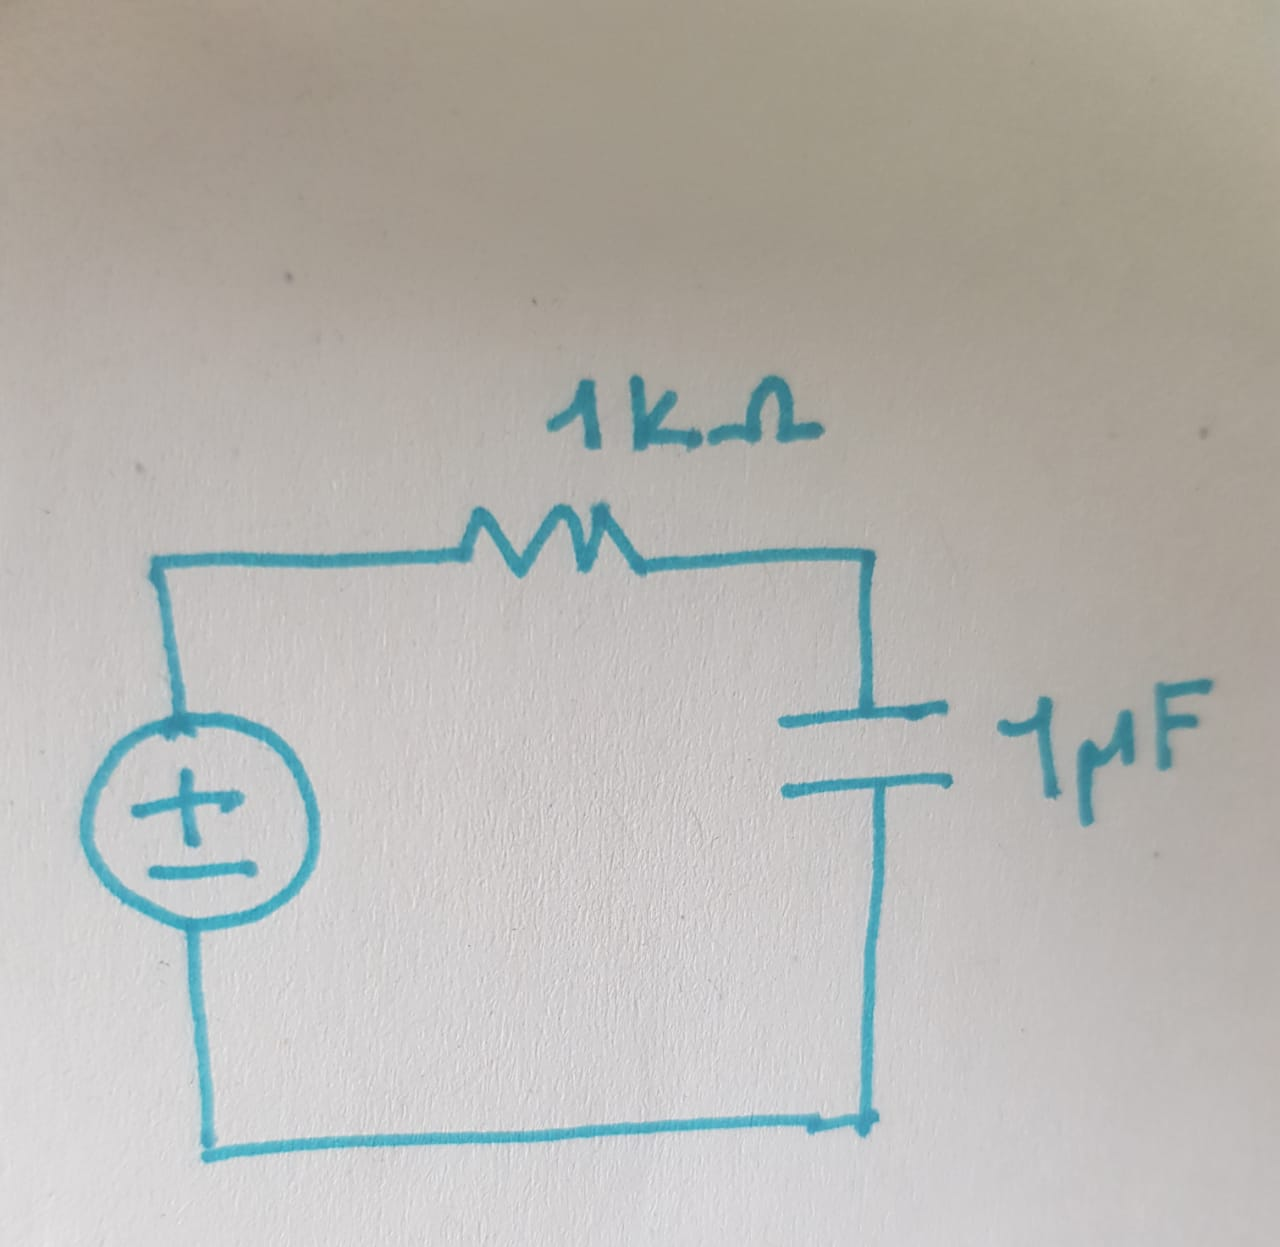capacitor.unpolarized: (758, 677, 967, 820)
junction: (837, 1087, 891, 1151), (189, 1122, 234, 1180), (137, 537, 182, 595), (841, 531, 885, 583)
resistor: (437, 486, 667, 603)
text: (993, 666, 1218, 833), (534, 360, 841, 481)
voltage.dc: (63, 705, 334, 934)
